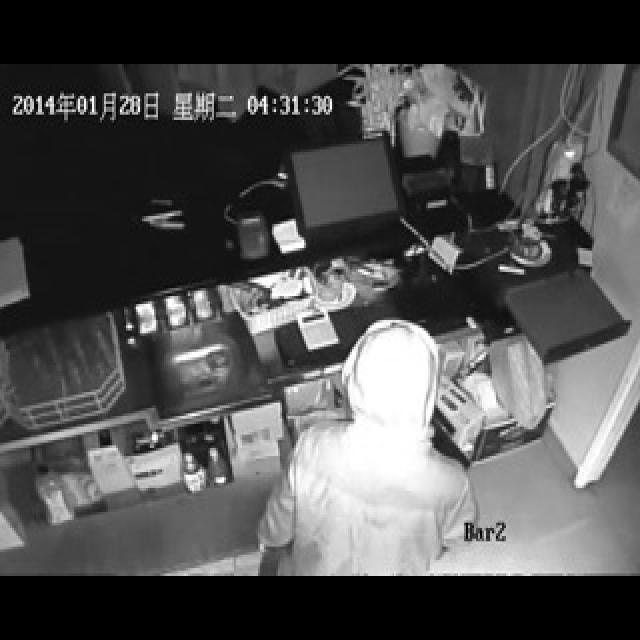thief: (304, 311, 461, 566)
